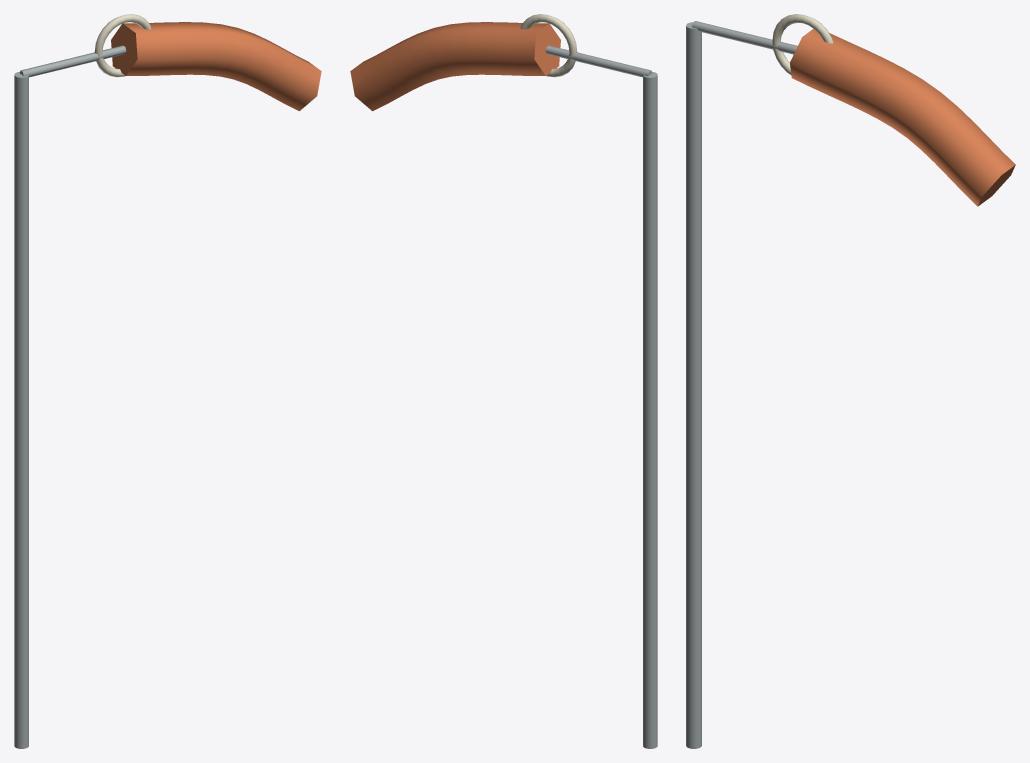
The picture shows the model from 3 angles, left to right: view 1: azimuth 30°, elevation 25°; view 2: azimuth 150°, elevation 25°; view 3: azimuth 330°, elevation 25°; orthographic projection. The views are drawn at different scales.
Parts seen in each view (by area): view 1: signal-windsock; view 2: signal-windsock; view 3: signal-windsock.
Part boxes in pixels (x1,y1,x2,y2): signal-windsock: [14, 14, 321, 748]; signal-windsock: [350, 14, 657, 748]; signal-windsock: [686, 14, 1015, 748].
Bounding box in the file's own units: 1.17 × 2.63 × 0.18.
